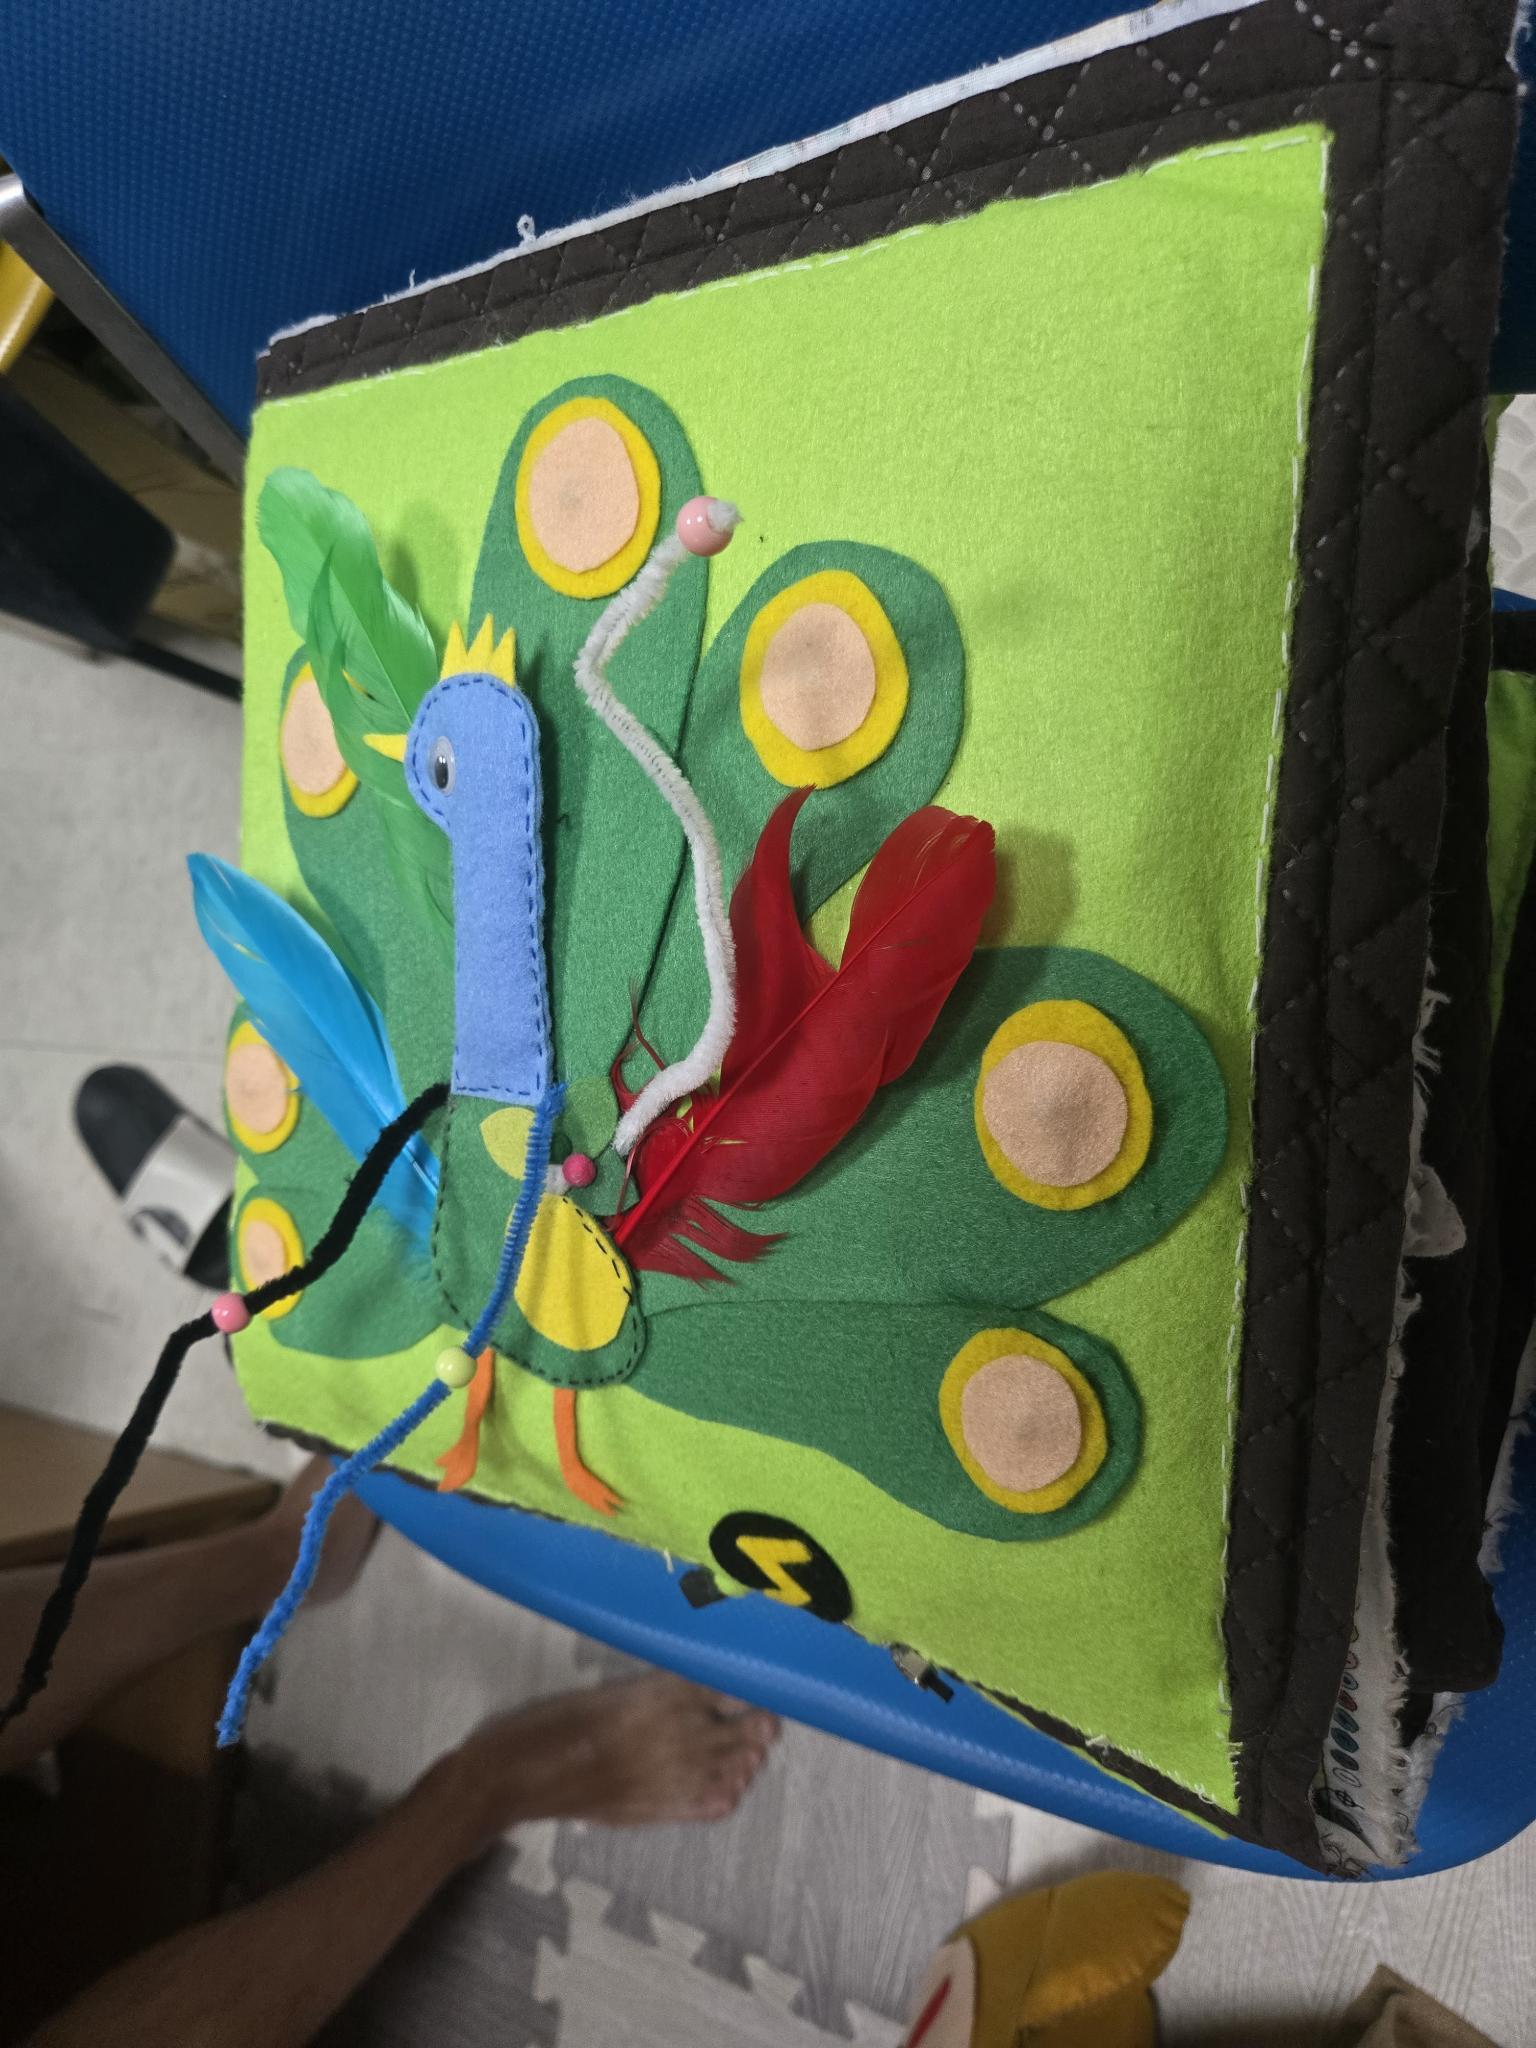bead: (650, 472, 744, 584), (195, 1271, 263, 1356), (415, 1332, 494, 1401)
